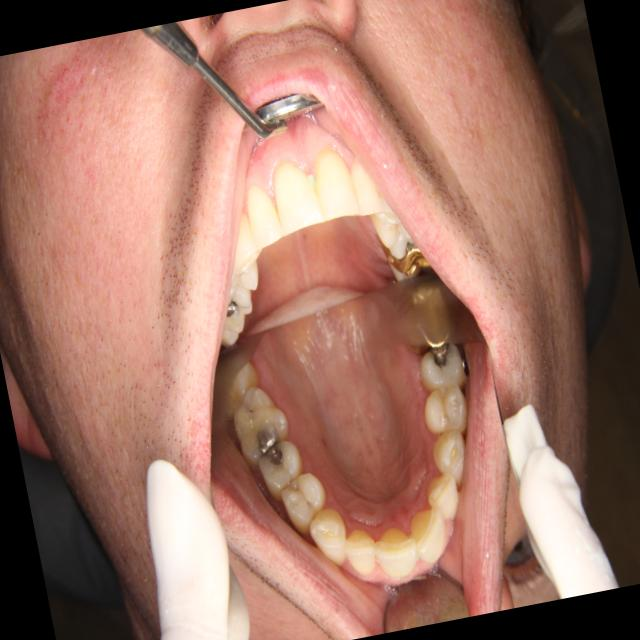tooth: (225, 378, 298, 473), (393, 276, 465, 354), (205, 346, 270, 425), (272, 467, 336, 540), (412, 328, 477, 397), (252, 435, 312, 507), (300, 499, 354, 573), (417, 376, 475, 443), (369, 517, 424, 585), (403, 499, 455, 570), (427, 422, 477, 490), (339, 520, 382, 582), (421, 464, 467, 521)
